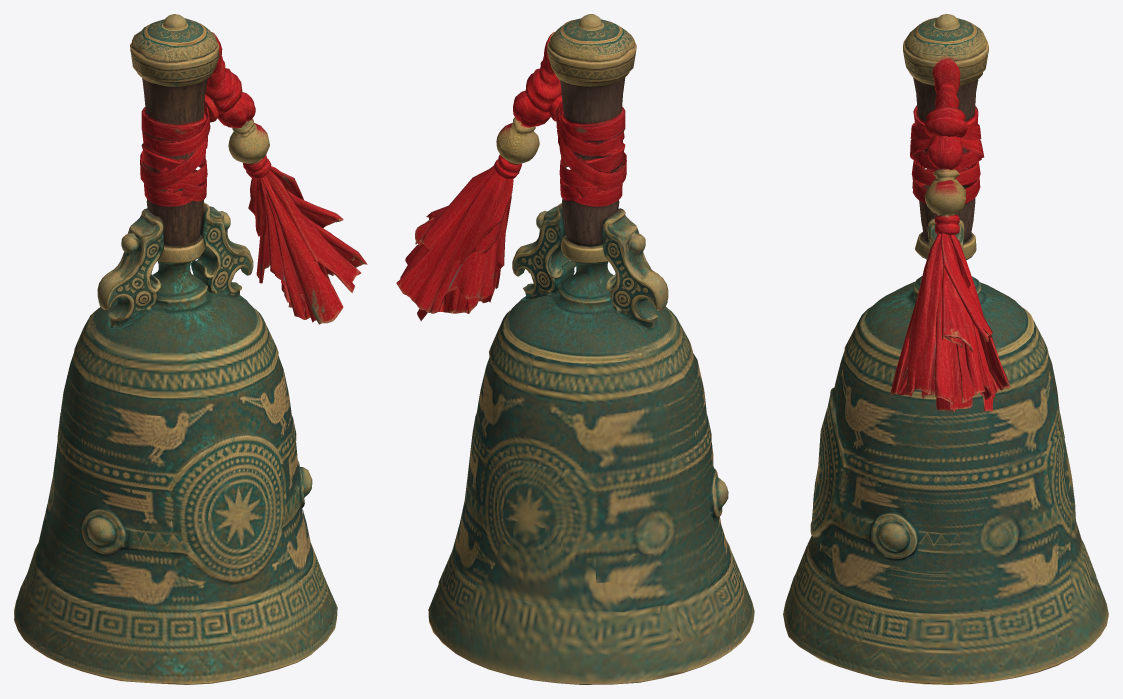
The model's file is Meshy_AI_Ceremonial_Bronze_Bel_1010012528_texture.fbx.
3 views of the same model, side by side, from view 1: azimuth 30°, elevation 25°; view 2: azimuth 150°, elevation 25°; view 3: azimuth 270°, elevation 25° (orthographic).
Parts seen in each view (by area): view 1: Mesh_0; view 2: Mesh_0; view 3: Mesh_0.
Part boxes in pixels (x1,y1,x2,y2): Mesh_0: (14, 14, 367, 684); Mesh_0: (396, 14, 754, 684); Mesh_0: (783, 14, 1108, 684).
Size of the model in its own units: 54.39 by 95.07 by 46.63.
Materials: 1 (1 with a texture image).
